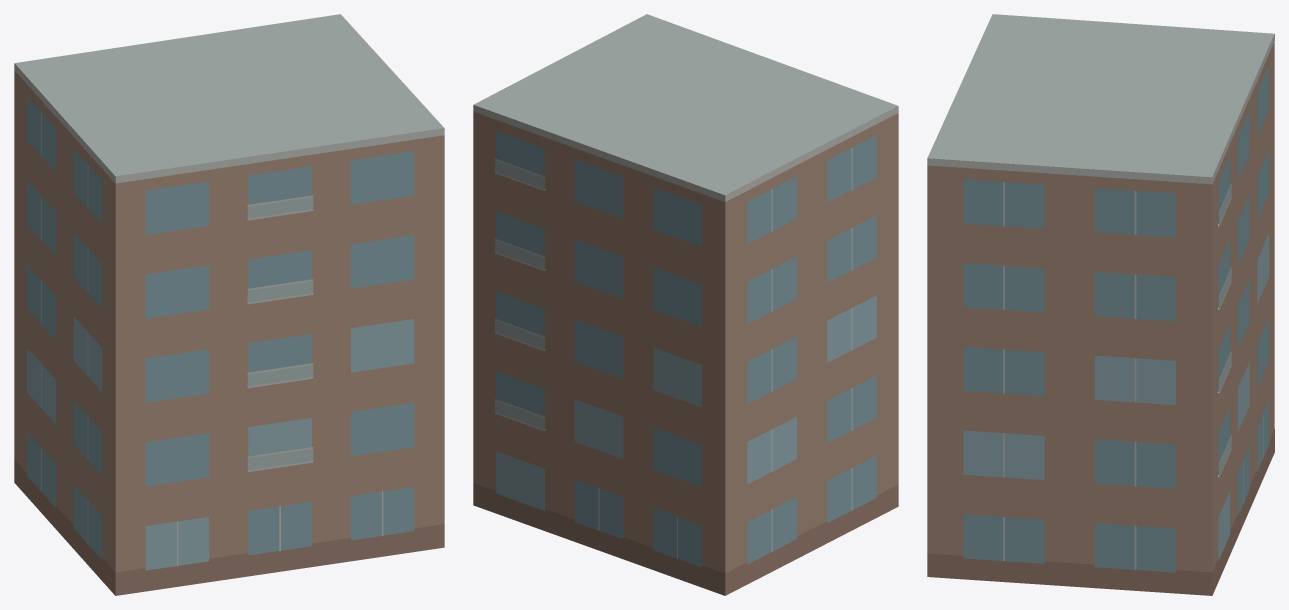
File: survey-upis-32531039.glb
3 views of the same model, side by side, from view 1: azimuth 30°, elevation 25°; view 2: azimuth 150°, elevation 25°; view 3: azimuth 270°, elevation 25° (orthographic). The views are drawn at different scales.
Parts seen in each view (by area): view 1: survey-upis-32531039.tmp; view 2: survey-upis-32531039.tmp; view 3: survey-upis-32531039.tmp.
Boxes of the visible parts, x1=… form: survey-upis-32531039.tmp: x1=14, y1=14, x2=444, y2=595; survey-upis-32531039.tmp: x1=473, y1=14, x2=898, y2=595; survey-upis-32531039.tmp: x1=927, y1=14, x2=1274, y2=595.
Bounding box in the file's own units: 12.02 × 14.35 × 10.81.
